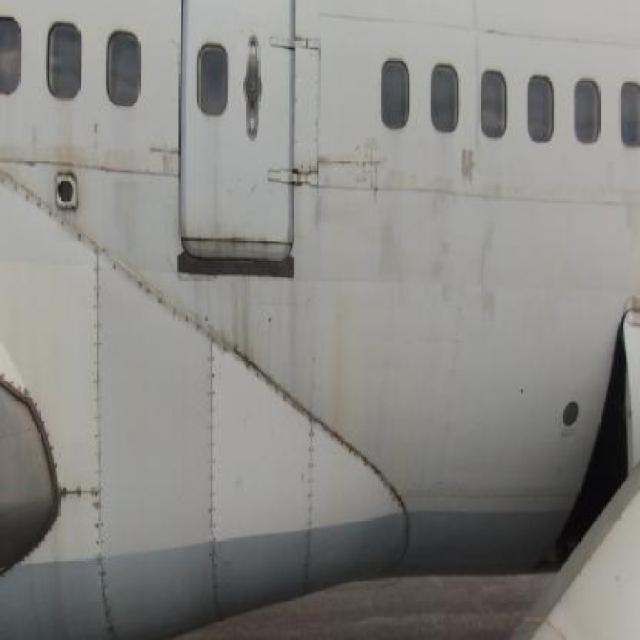Missing-Rivet: (57, 473, 109, 510)
Rust: (324, 264, 362, 439), (218, 262, 268, 370), (43, 112, 97, 178), (197, 218, 286, 254)
Scartch: (379, 180, 504, 322), (323, 139, 388, 207)
